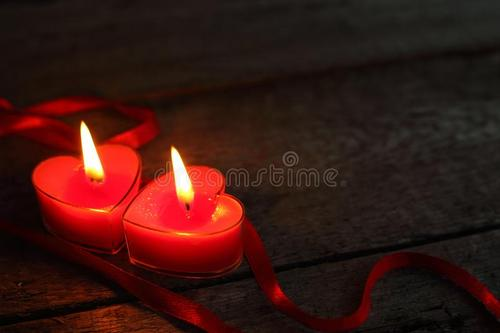Fire: (166, 144, 197, 205), (77, 118, 105, 180)
